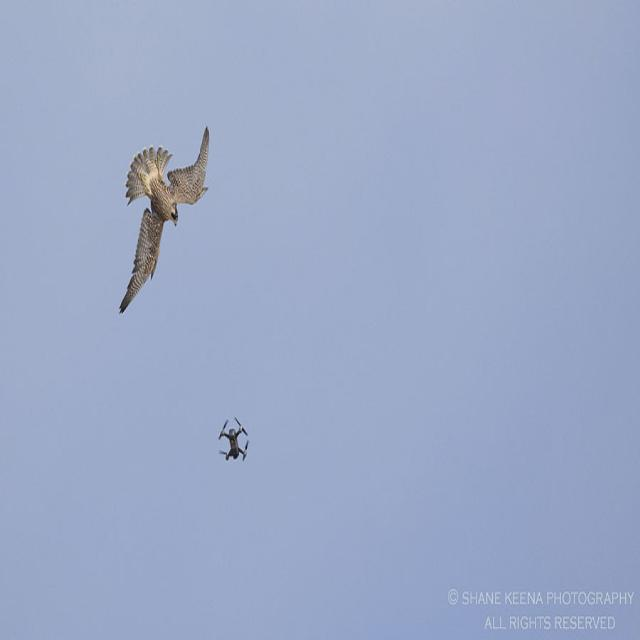bird: (108, 124, 248, 338)
